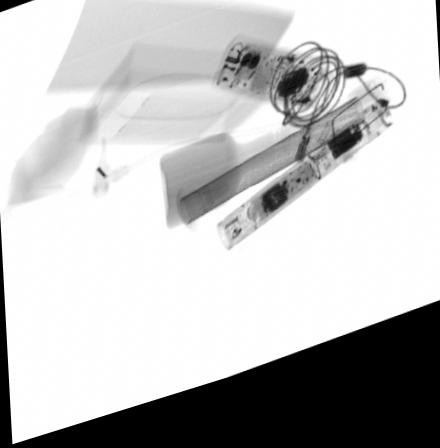Baton: (214, 118, 393, 266)
